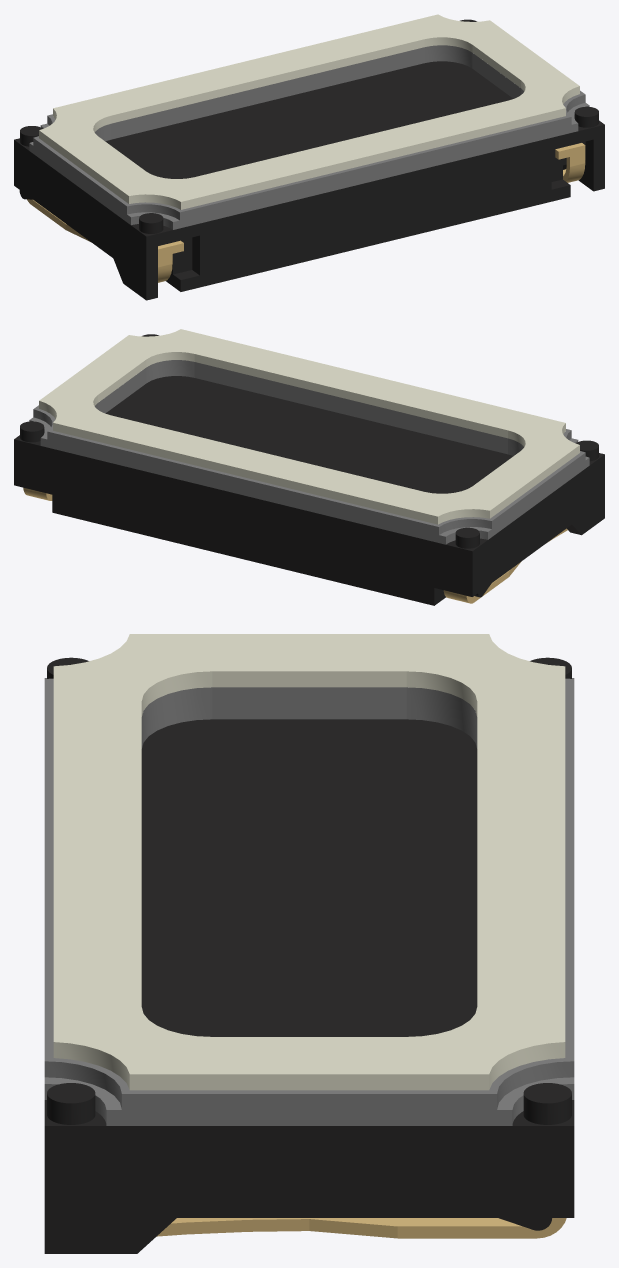
The model's file is kc-speaker_cui_cmr-1206s-67.glb.
3 renders of one model, top to bottom at view 1: azimuth 30°, elevation 25°; view 2: azimuth 150°, elevation 25°; view 3: azimuth 270°, elevation 25°, orthographic. The views are drawn at different scales.
Visible parts, largest first — view 1: 0_0_0_0, 0.75_0.75_0.6666666666666666_0, 0.25_0.25_0.25_0, 0.75_0.5_0.25_0.9; view 2: 0_0_0_0, 0.75_0.75_0.6666666666666666_0, 0.25_0.25_0.25_0, 0.75_0.5_0.25_0.9; view 3: 0_0_0_0, 0.75_0.75_0.6666666666666666_0, 0.25_0.25_0.25_0, 0.75_0.5_0.25_0.9.
Part boxes in pixels (x1,y1,x2,y2): 0_0_0_0: [14, 19, 604, 300]; 0.75_0.75_0.6666666666666666_0: [39, 14, 579, 209]; 0.25_0.25_0.25_0: [29, 45, 589, 229]; 0.75_0.5_0.25_0.9: [27, 143, 585, 282]; 0_0_0_0: [14, 334, 604, 605]; 0.75_0.75_0.6666666666666666_0: [39, 329, 579, 524]; 0.25_0.25_0.25_0: [29, 360, 589, 544]; 0.75_0.5_0.25_0.9: [23, 487, 567, 603]; 0_0_0_0: [44, 657, 574, 1253]; 0.75_0.75_0.6666666666666666_0: [53, 634, 565, 1090]; 0.25_0.25_0.25_0: [44, 678, 574, 1125]; 0.75_0.5_0.25_0.9: [157, 1218, 566, 1238].
Bounding box in the file's own units: 1.2 × 0.22 × 0.6001.
